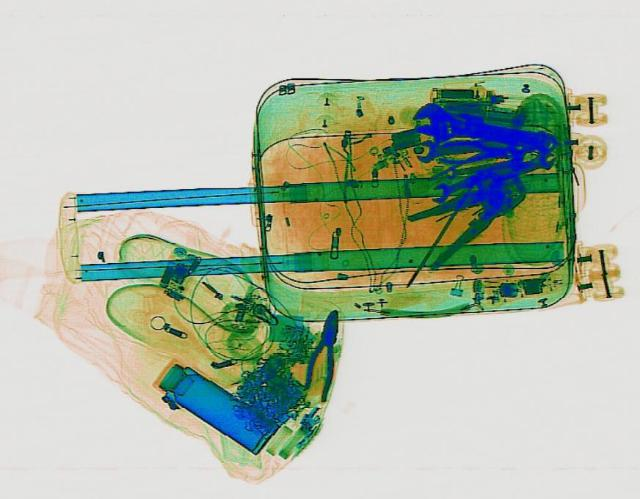Pliers: (392, 170, 554, 269), (300, 309, 346, 402)
Wrench: (404, 99, 554, 156), (422, 153, 514, 202)
